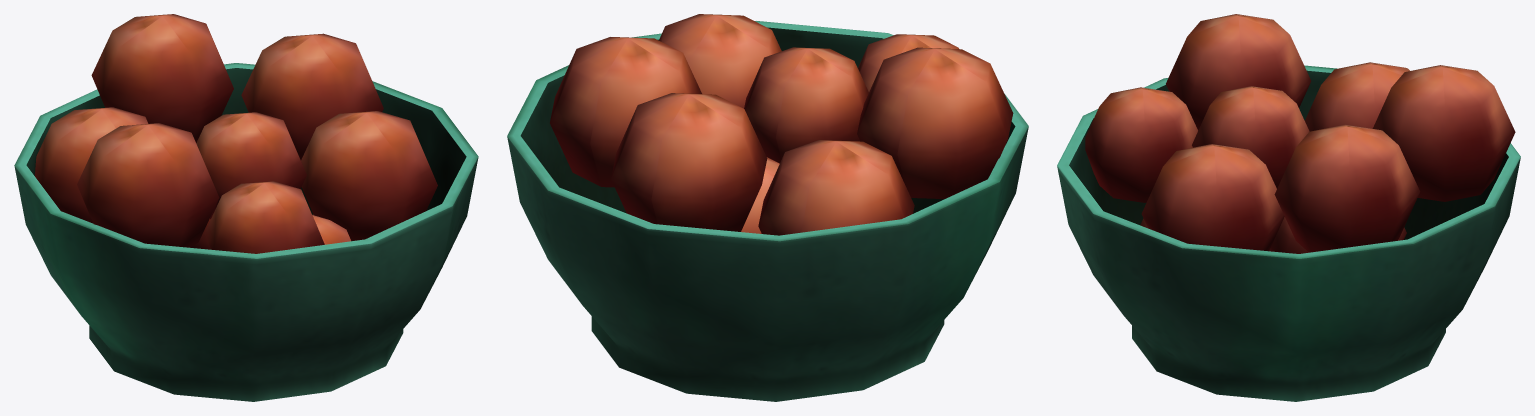
Rendered from XiuXiShi_01_guolan_01.FBX.
The picture shows the model from 3 angles, left to right: view 1: azimuth 30°, elevation 25°; view 2: azimuth 150°, elevation 25°; view 3: azimuth 270°, elevation 25°; orthographic projection. The views are drawn at different scales.
Parts seen in each view (by area): view 1: XiuXiShi_guolan_01; view 2: XiuXiShi_guolan_01; view 3: XiuXiShi_guolan_01.
Boxes of the visible parts, x1=… form: XiuXiShi_guolan_01: x1=14, y1=14, x2=478, y2=401; XiuXiShi_guolan_01: x1=507, y1=14, x2=1028, y2=401; XiuXiShi_guolan_01: x1=1057, y1=14, x2=1520, y2=401.
Size of the model in its own units: 93.43 by 58.87 by 93.43.
